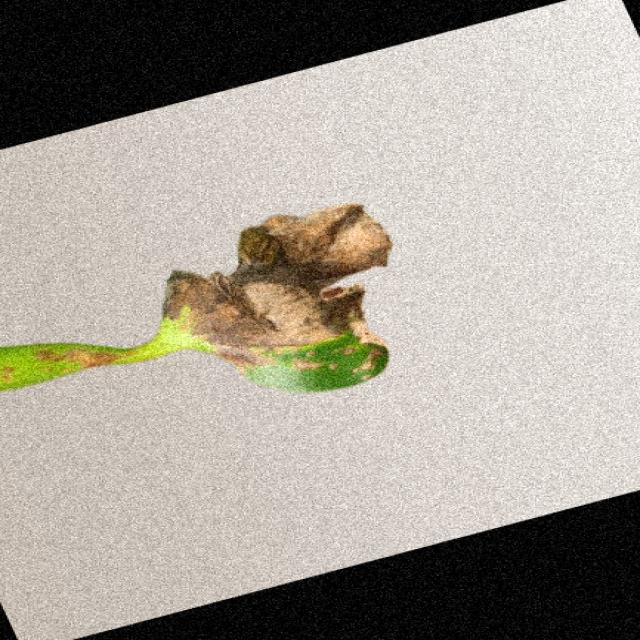daun berpenyakit karat: (0, 204, 388, 392)
